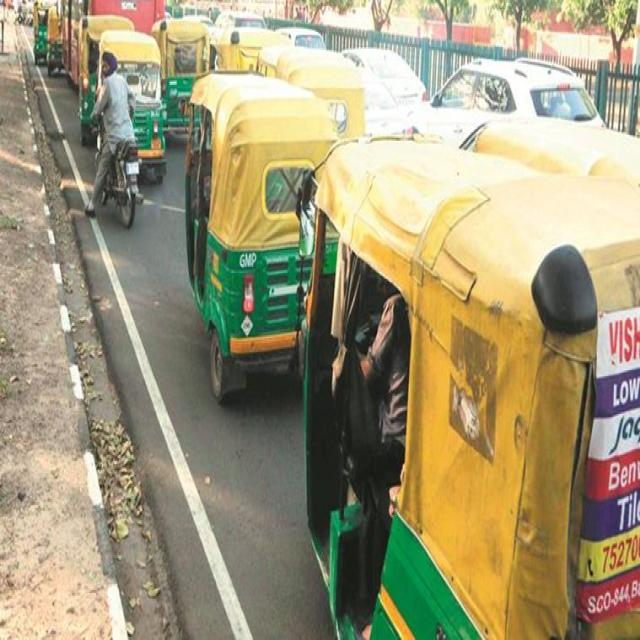autorickshaw: (305, 139, 640, 638), (185, 72, 338, 399), (472, 119, 640, 185), (100, 31, 166, 181), (258, 45, 365, 137), (70, 16, 133, 145), (152, 18, 209, 129), (210, 16, 290, 71), (48, 0, 84, 87), (34, 0, 62, 73)
bus: (61, 0, 164, 87)
car: (412, 56, 605, 147), (341, 47, 426, 135), (212, 11, 267, 30), (278, 29, 326, 48), (226, 1, 271, 12)
motorcycle: (85, 52, 143, 228)
